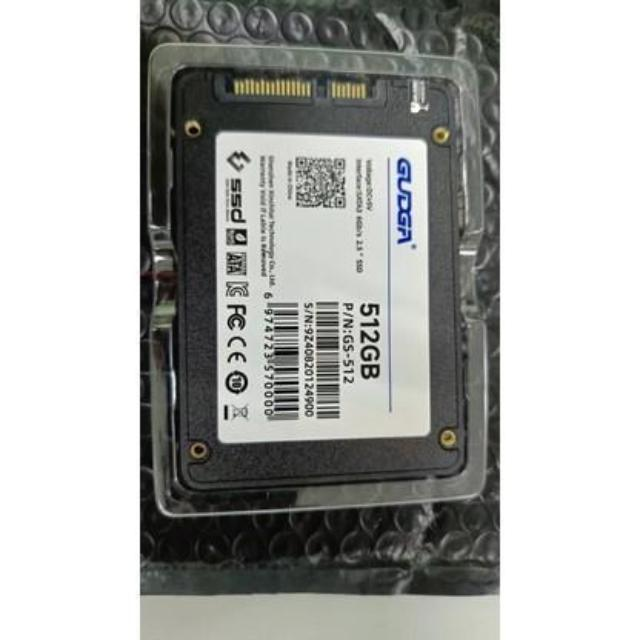DISK: (164, 64, 472, 493)
